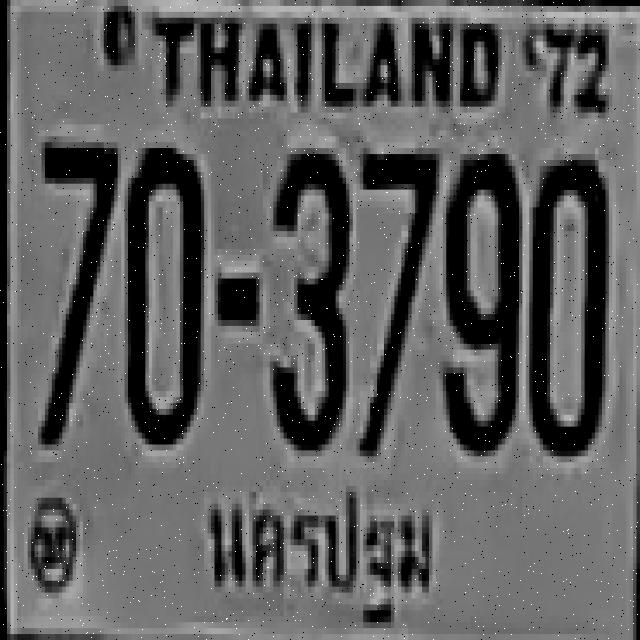0: (116, 119, 208, 457), (532, 137, 612, 464)
3: (261, 132, 363, 482)
7: (32, 114, 122, 457), (358, 130, 446, 473)
9: (448, 138, 522, 458)
NakhonPathom: (188, 453, 452, 640)
